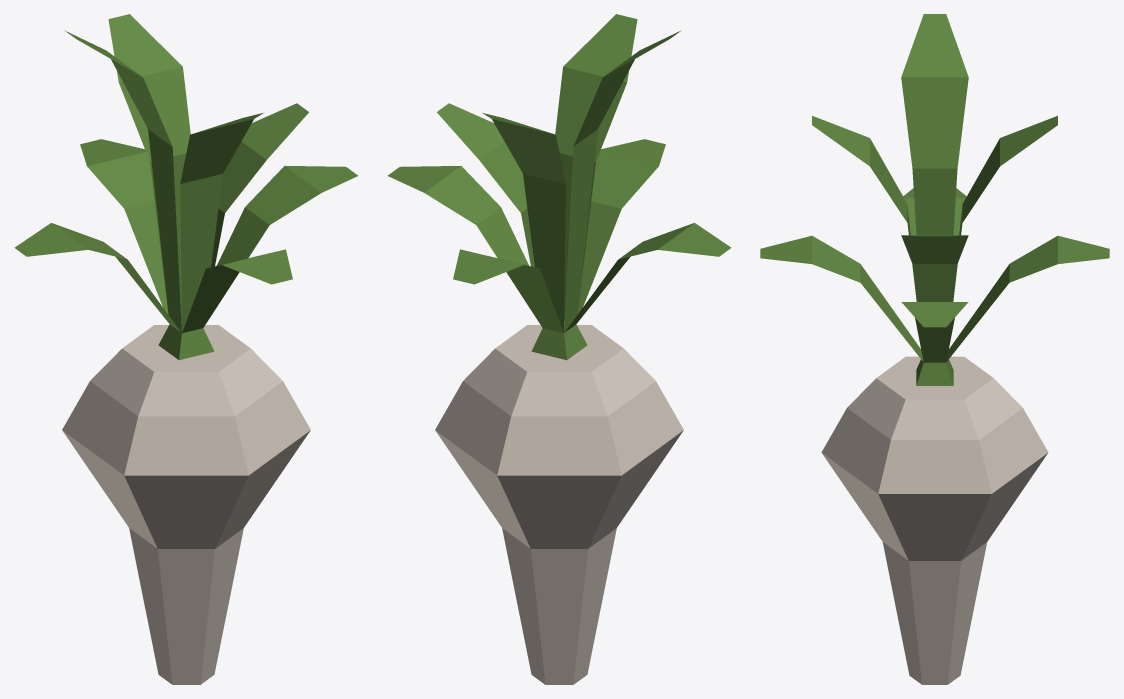
Rendered from cu-cai.glb.
The picture shows the model from 3 angles, left to right: view 1: azimuth 30°, elevation 25°; view 2: azimuth 150°, elevation 25°; view 3: azimuth 270°, elevation 25°; orthographic projection. The views are drawn at different scales.
Visible parts, largest first — view 1: crop_turnip; view 2: crop_turnip; view 3: crop_turnip.
Boxes of the visible parts, <box> form: crop_turnip: <box>14,14,358,684</box>; crop_turnip: <box>387,14,731,684</box>; crop_turnip: <box>760,14,1109,684</box>.
Bounding box in the file's own units: 0.3431 × 0.6607 × 0.3431.
